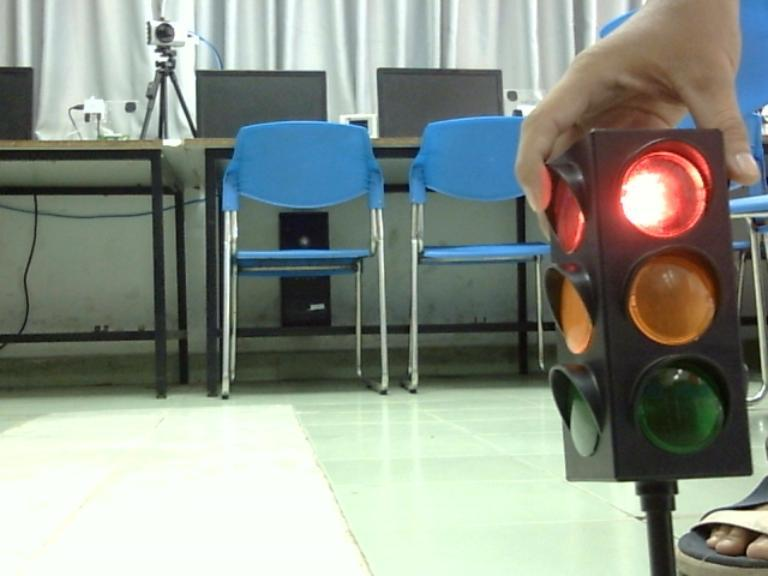red: (610, 134, 718, 241)
